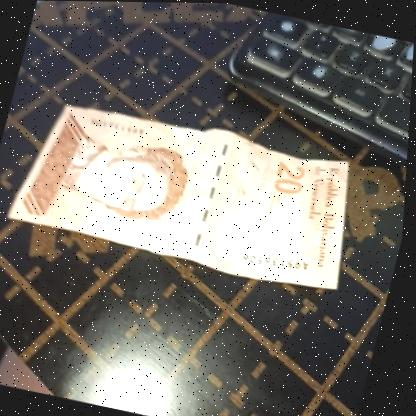twenty-front-vef: (1, 89, 377, 297)
